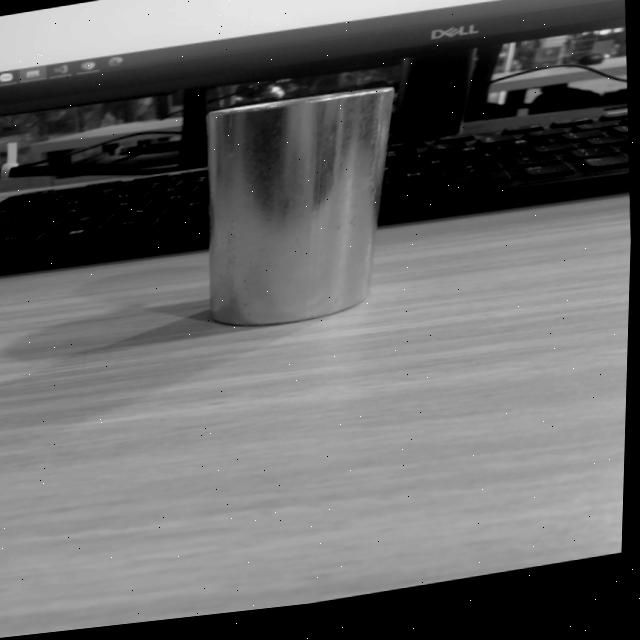Co_Lon: (207, 88, 395, 326)
